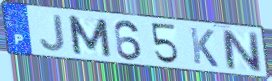5: (149, 21, 179, 65)
6: (112, 19, 143, 62)
J: (39, 14, 67, 53)
K: (187, 26, 221, 69)
M: (65, 14, 114, 59)
N: (219, 28, 264, 74)
